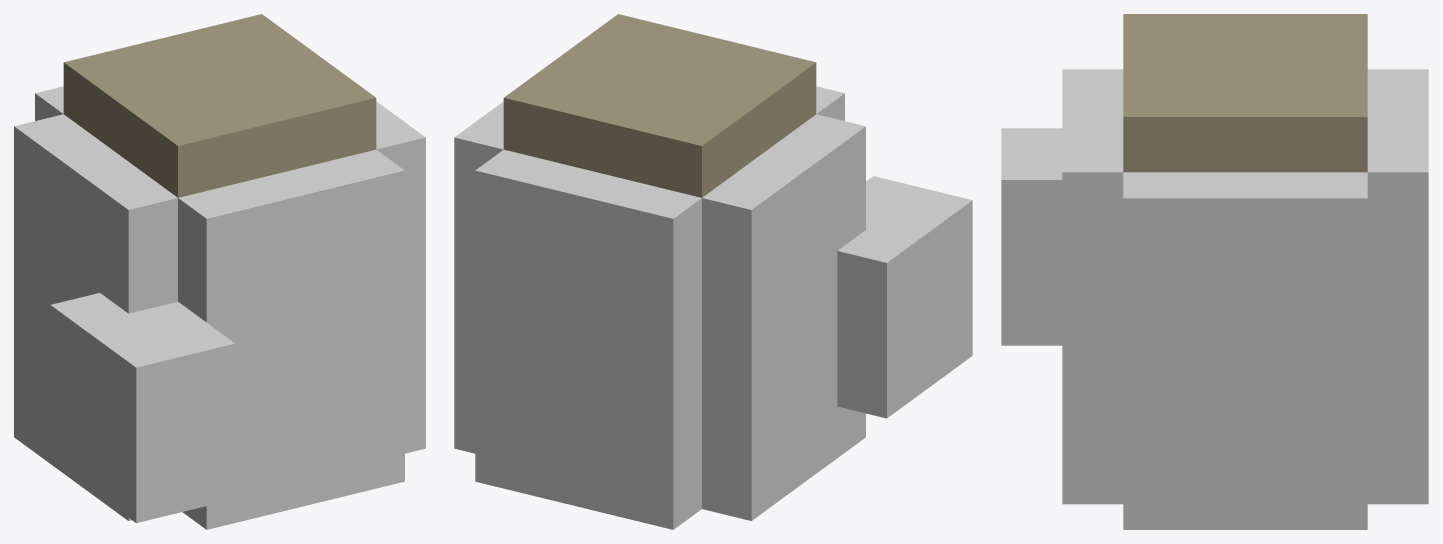
The model's file is hand.glb.
3 views of the same model, side by side, from view 1: azimuth 30°, elevation 25°; view 2: azimuth 150°, elevation 25°; view 3: azimuth 270°, elevation 25° (orthographic). The views are drawn at different scales.
Visible parts, largest first — view 1: VoxelVisual; view 2: VoxelVisual; view 3: VoxelVisual.
Boxes of the visible parts, <box> form: VoxelVisual: <box>14,14,425,529</box>; VoxelVisual: <box>454,14,972,529</box>; VoxelVisual: <box>1001,14,1428,529</box>.
Size of what is drawn, in the model's own units: 0.4375 by 0.4375 by 0.4375.
